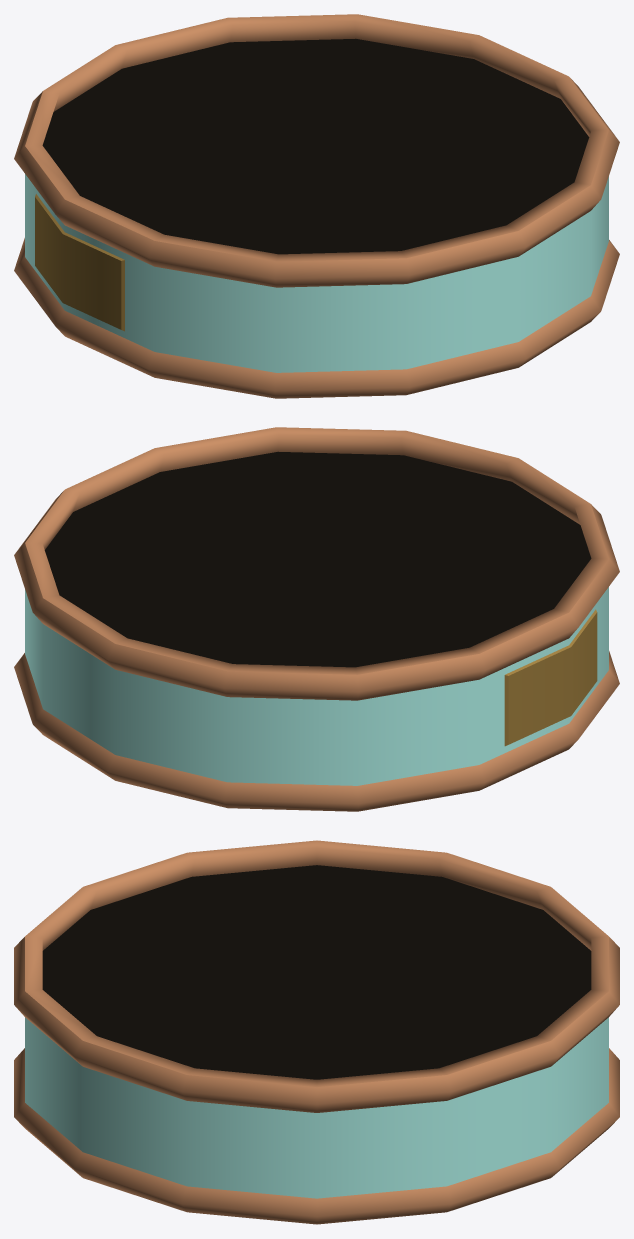
Rendered from 120_tunic_glass_cabinet_bottom.glb.
The picture shows the model from 3 angles, top to bottom: view 1: azimuth 30°, elevation 25°; view 2: azimuth 150°, elevation 25°; view 3: azimuth 270°, elevation 25°; orthographic projection.
Parts seen in each view (by area): view 1: base, nameplate; view 2: base, nameplate; view 3: base.
Boxes of the visible parts, left/top/right/bottom form: base: left=14, top=14, right=619, bottom=398; nameplate: left=35, top=194, right=124, bottom=331; base: left=14, top=427, right=619, bottom=811; nameplate: left=504, top=609, right=597, bottom=746; base: left=14, top=840, right=619, bottom=1224.
Bounding box in the file's own units: 1.5 × 0.375 × 1.5.
